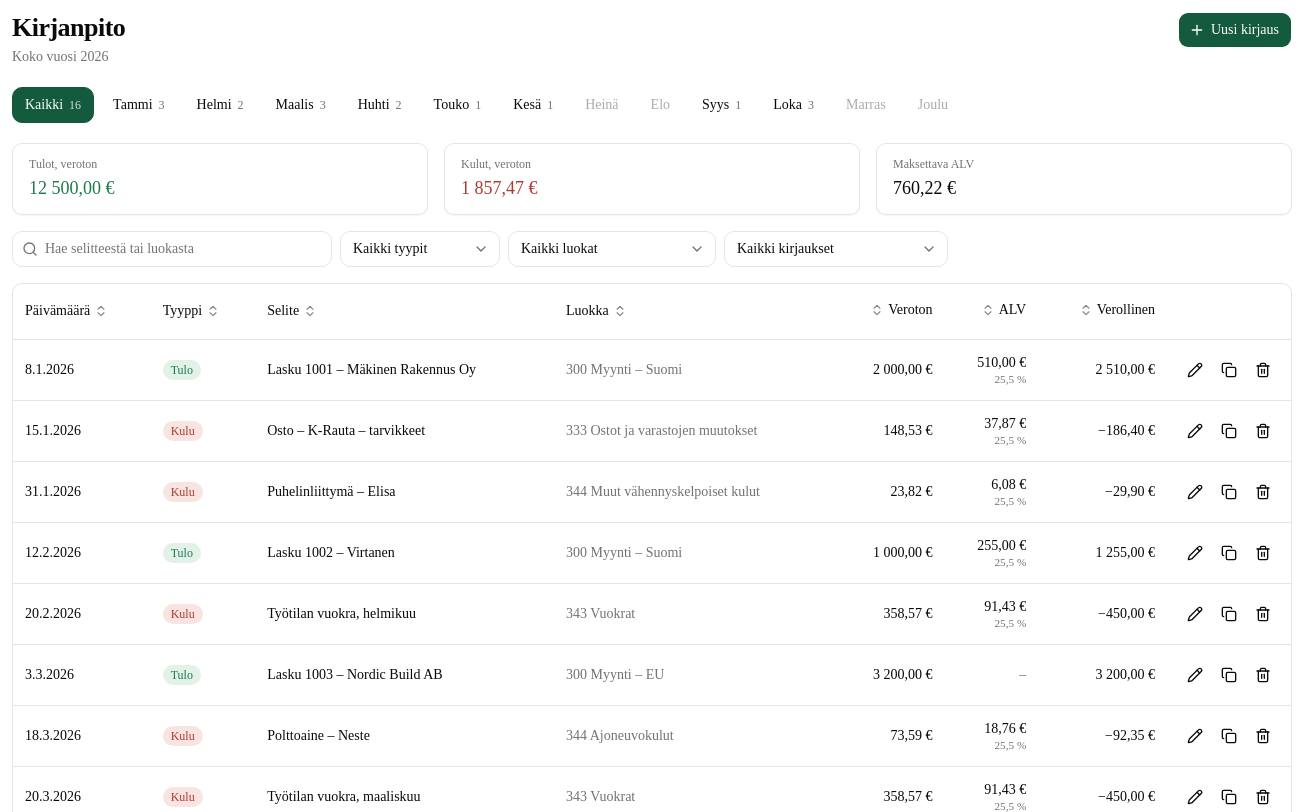
Test: LedgerView with the sample data › reverses the order on the second click of the date header
The width and height of the screenshot is (1304, 812).
What coordinates should you click on to do the following:
click the button "Päivämäärä"
I would click on:
 (67, 311)
Its box is [25,301,108,321].
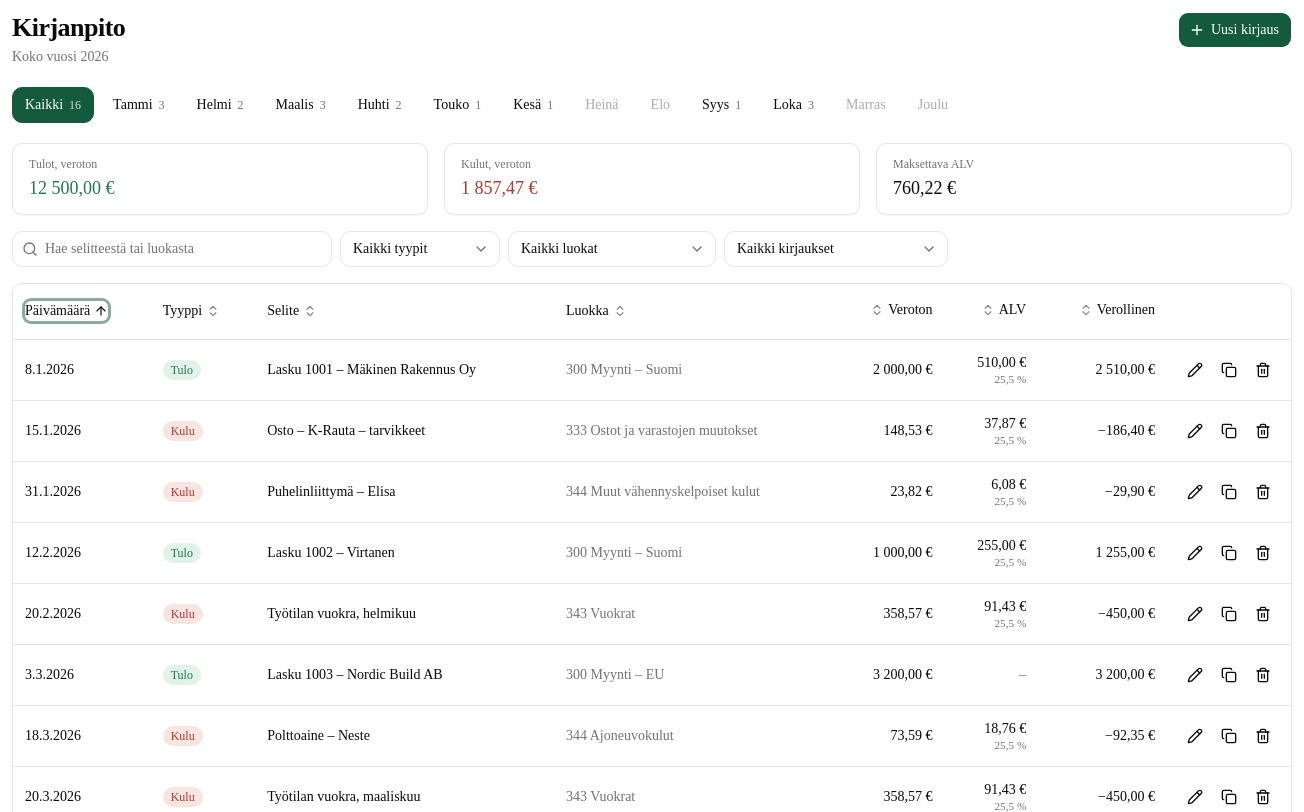
What coordinates should you click on to do the following:
click the button "Päivämäärä"
I would click on:
 (67, 311)
Its box is [25,301,108,321].
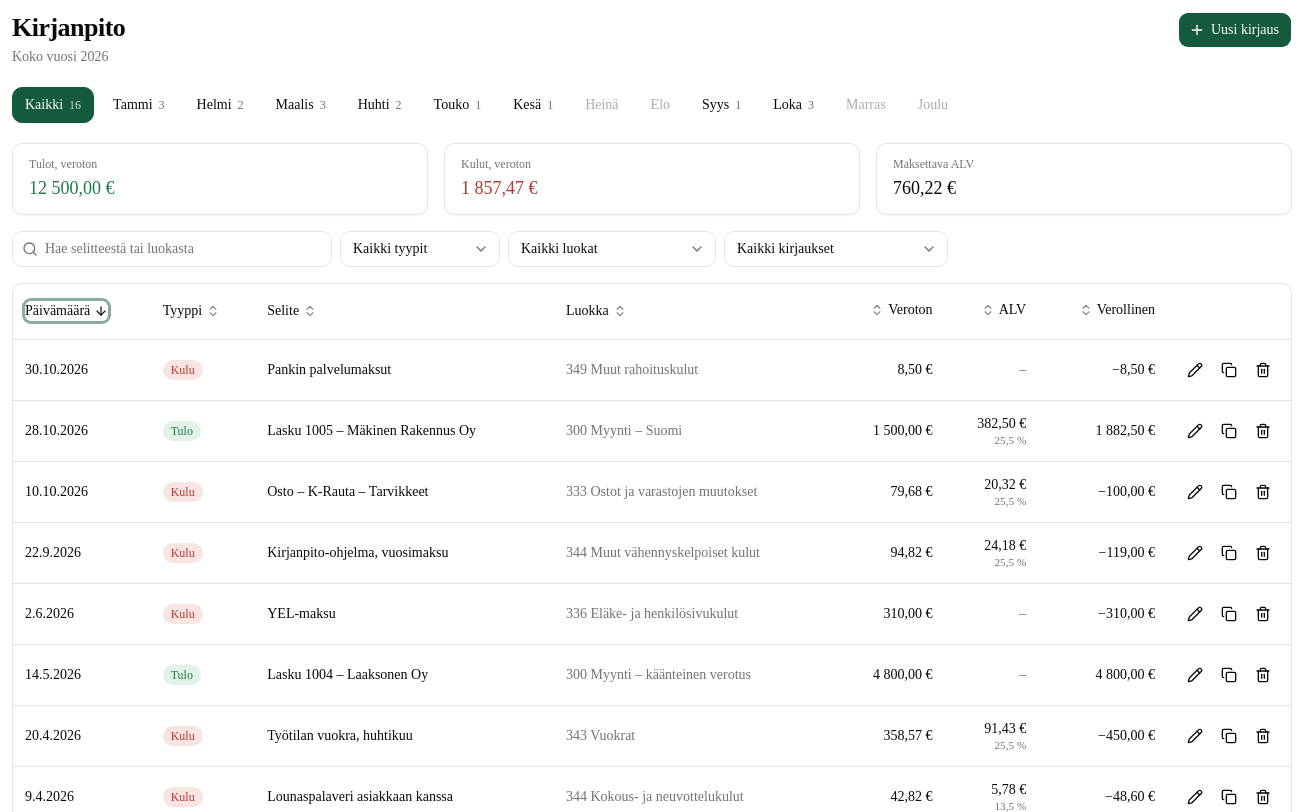
Result: the text "30.10.2026" is shown at [13,340,151,400]
